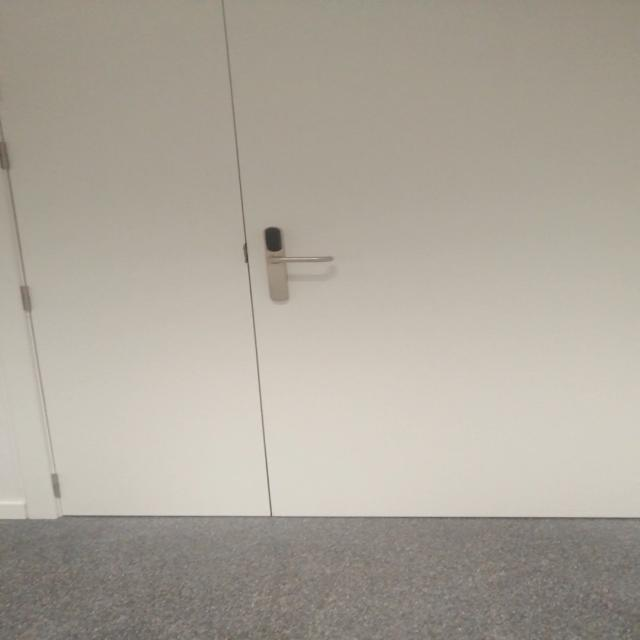door_handle: (263, 253, 341, 266)
